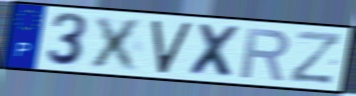3: (44, 11, 92, 69)
R: (238, 26, 292, 82)
V: (149, 20, 195, 76)
X: (86, 14, 148, 73), (186, 21, 244, 81)
Z: (286, 29, 344, 86)
